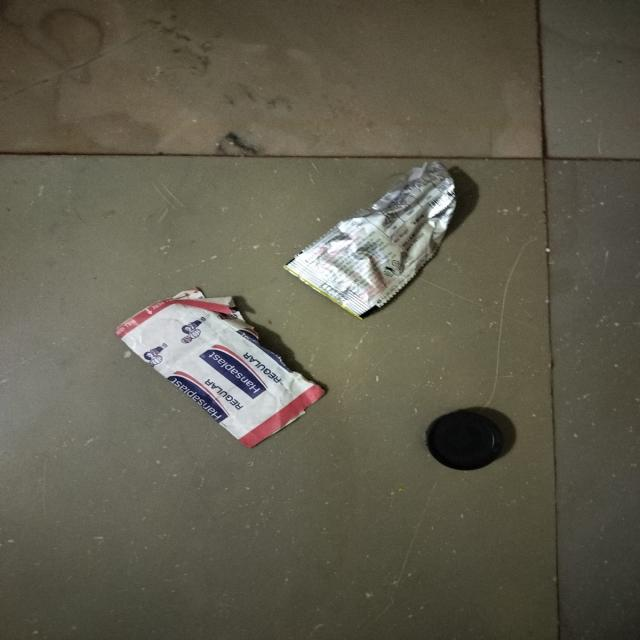dry: (123, 282, 319, 462), (286, 159, 496, 323), (409, 391, 526, 496)
